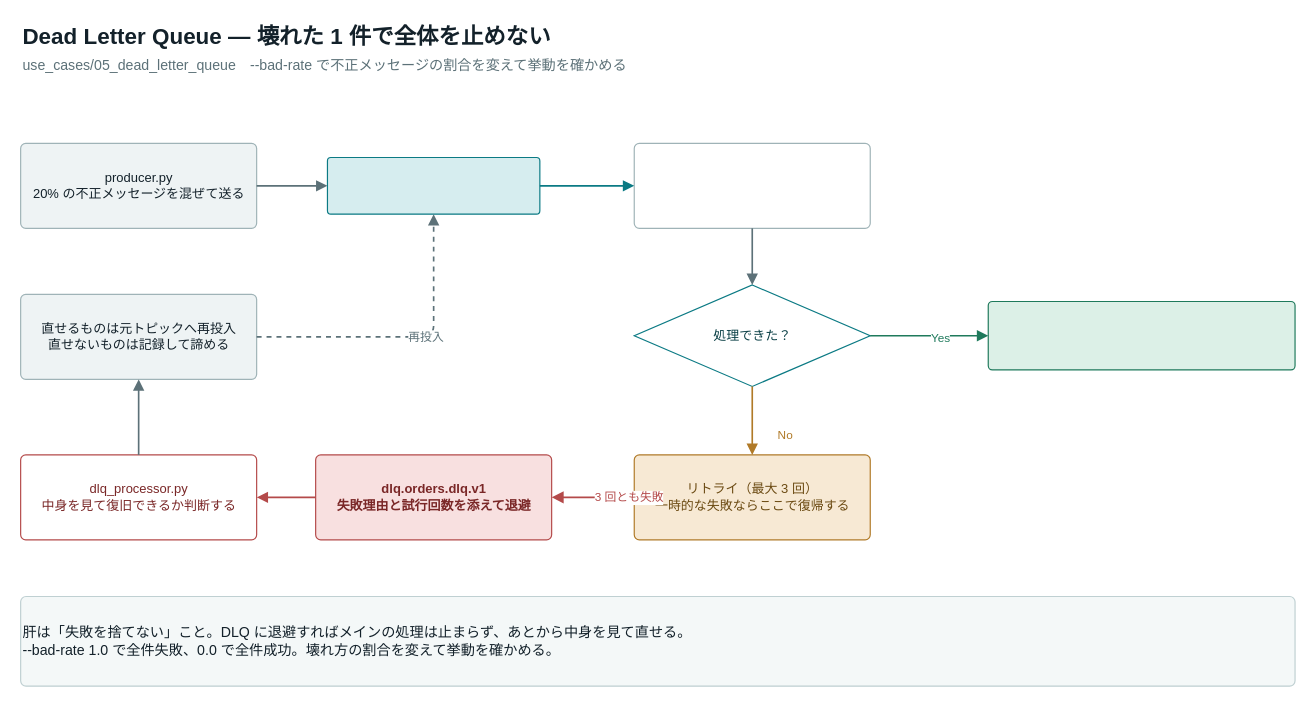
Image size: 1316x707. Some labels were removed from this diagram. Here are the shapes that lost their labels. From the top down, the centre of each, then its label:
[433,185]: dlq.orders.v1
[751,185]: メインコンシューマー 1 件ずつ処理する
[1141,335]: 正常に処理して commit 次のメッセージへ進む
